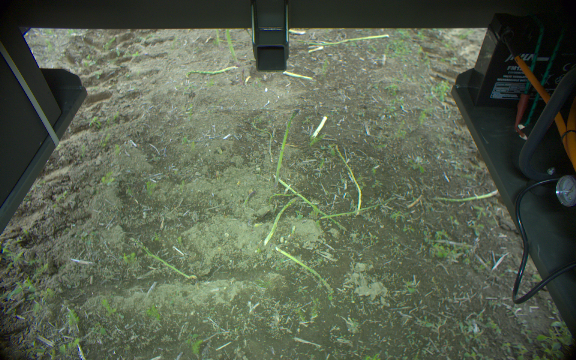aspa: (273, 108, 300, 189), (264, 196, 299, 243), (223, 28, 239, 67), (243, 189, 257, 208), (213, 28, 221, 50)
